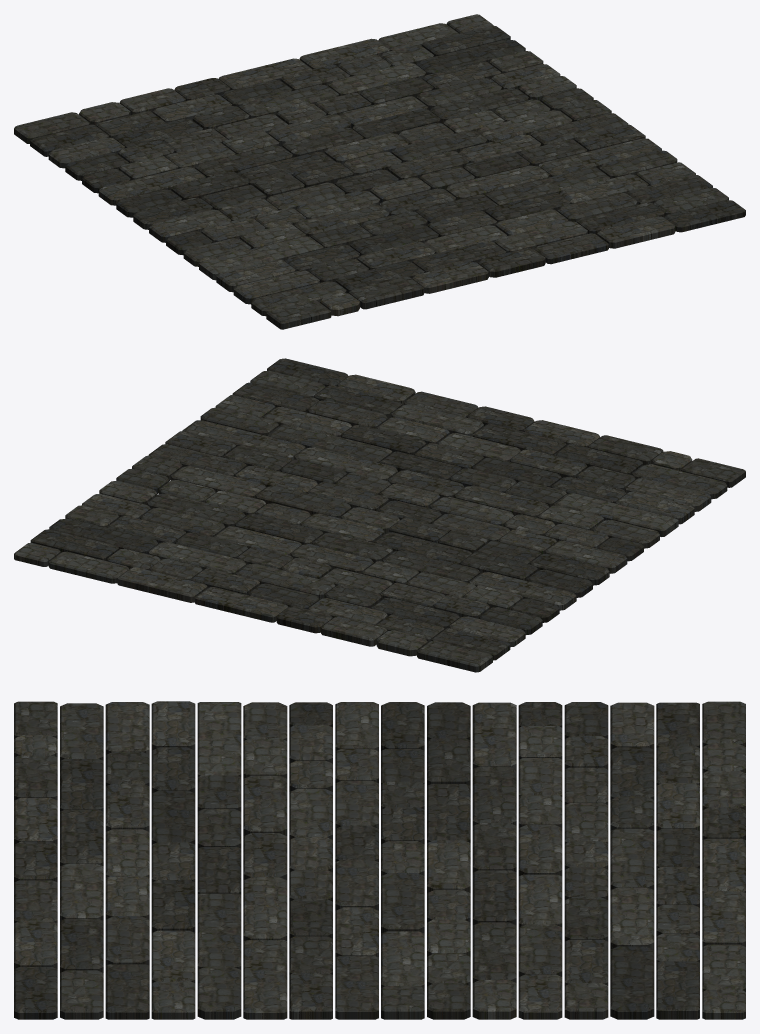
File: ProcessionPaving.glb
3 views of the same model, one above another, from view 1: azimuth 30°, elevation 25°; view 2: azimuth 150°, elevation 25°; view 3: azimuth 270°, elevation 25° (orthographic). The views are drawn at different scales.
Parts seen in each view (by area): view 1: Dressed shale pavers; view 2: Dressed shale pavers; view 3: Dressed shale pavers.
Boxes of the visible parts, left/top/right/bottom form: Dressed shale pavers: left=14, top=14, right=745, bottom=329; Dressed shale pavers: left=14, top=358, right=745, bottom=672; Dressed shale pavers: left=14, top=701, right=745, bottom=1019.
Bounding box in the file's own units: 8.28 × 0.134 × 8.28.
1 material, 1 textured.
